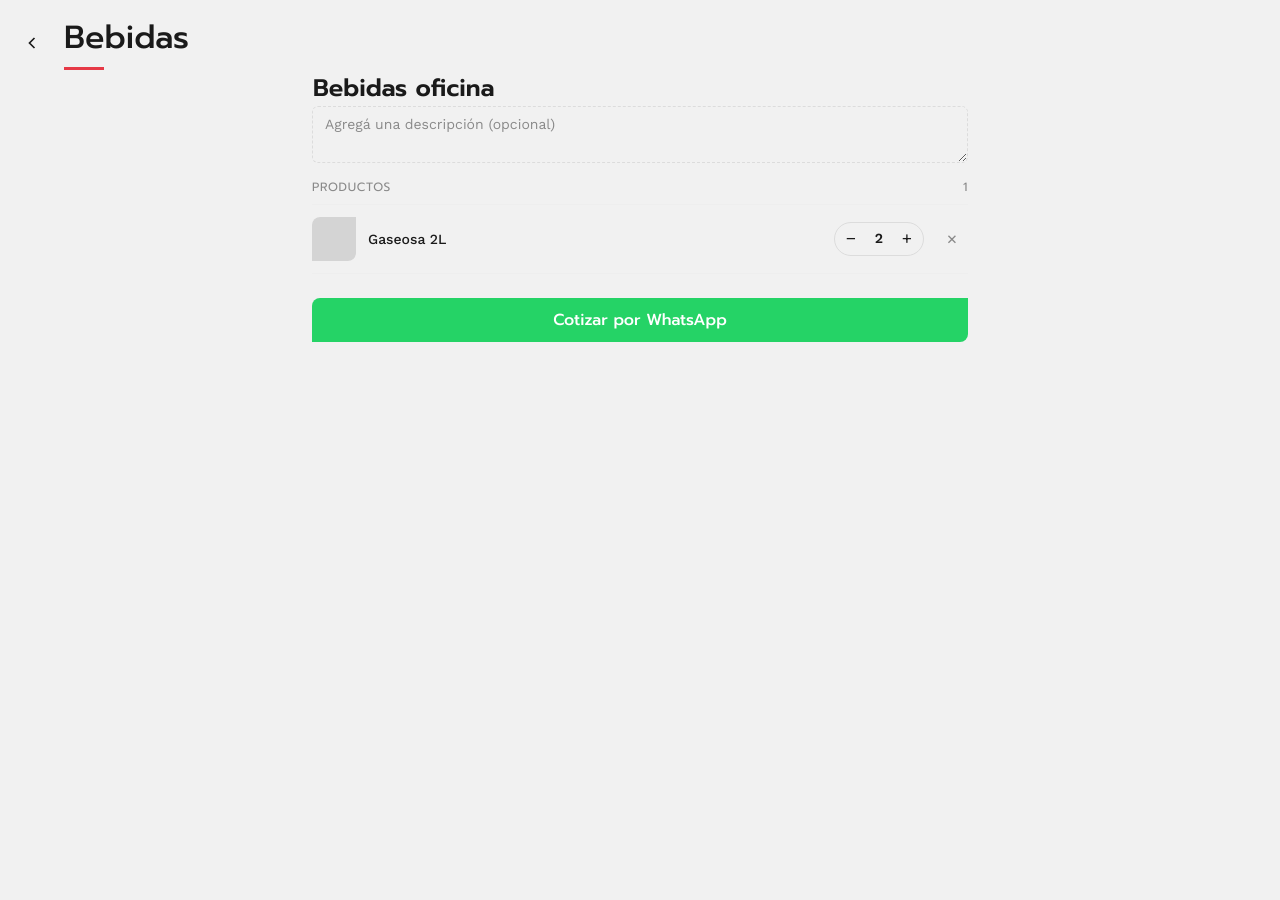
Test: DetalleQuodom: el envío pasa por el selector de proveedores › tocar Cotizar abre el selector en vez de ir directo a WhatsApp
Expected: the text "Gaseosa 2L" is shown, 368,230 -> 446,248
Click the button "Cotizar por WhatsApp" at {"x": 640, "y": 320}, box 312,298 -> 968,342
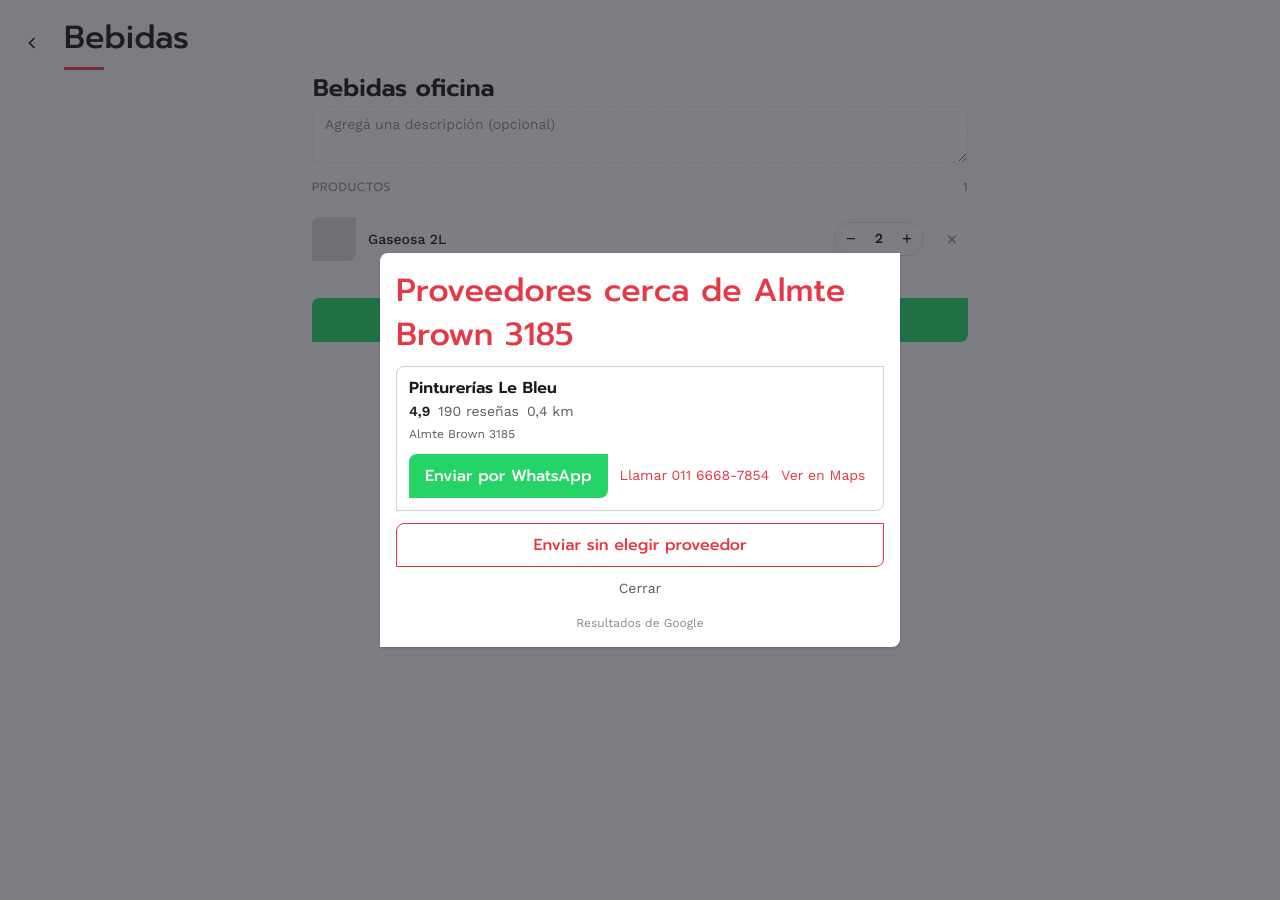
Expected: the heading "Proveedores cerca de Almte Brown 3185" is shown, 396,268 -> 884,358
